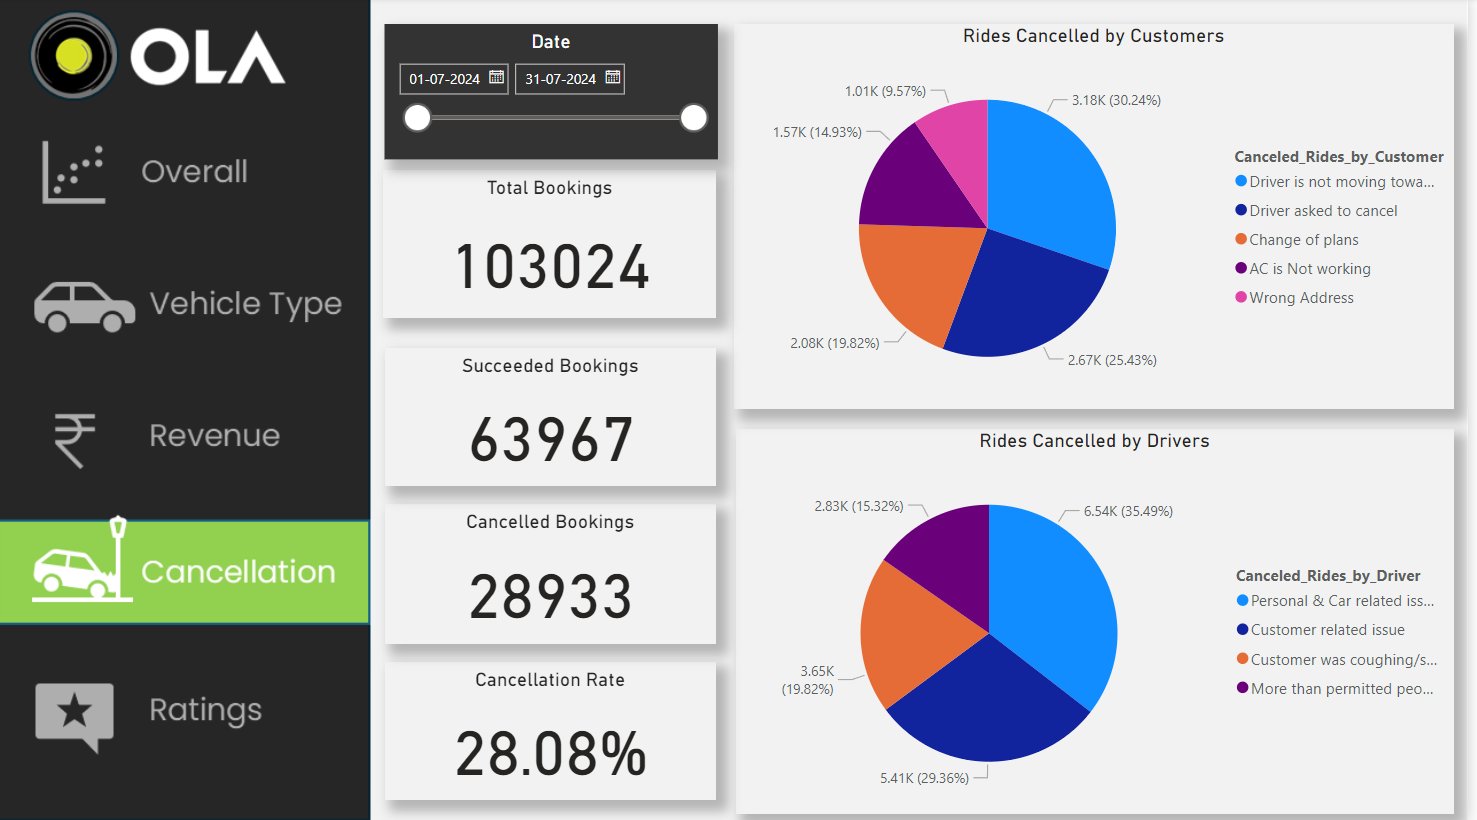

What the dashboard file says about the page in this screenshot:
{"tool":"powerbi","page":{"name":"Cancellation","canvas":[1280,720],"ordinal":3},"visuals":[{"type":"actionButton","box":[0,228.7,320.7,87.7],"z":0},{"type":"actionButton","box":[0,339.4,320.7,87.7],"z":1000},{"type":"actionButton","box":[0,457.3,320.7,87.7],"z":2000},{"type":"actionButton","box":[0,579.6,320.7,87.7],"z":3000},{"type":"actionButton","box":[0,106.4,320.7,87.7],"z":4000},{"type":"pieChart","title":"Rides Cancelled by Customers","fields":{"Category":["July.Canceled_Rides_by_Customer"],"Y":["CountNonNull(July.Canceled_Rides_by_Customer)"]},"box":[640.6,23.4,627.2,336.2],"z":4001},{"type":"pieChart","title":"Rides Cancelled by Drivers","fields":{"Category":["July.Canceled_Rides_by_Driver"],"Y":["CountNonNull(July.Canceled_Rides_by_Driver)"]},"box":[642,376.6,626.3,336],"z":4002},{"type":"slicer","title":"Date","fields":{"Values":["July.Date"]},"box":[336.5,23,290.5,117.9],"z":4003},{"type":"card","title":"Total Bookings","fields":{"Values":["Count(July.Booking_ID)"]},"box":[335.1,151,290.5,129.4],"z":4004},{"type":"card","title":"Succeeded Bookings","fields":{"Values":["Count(July.Booking_ID)"]},"box":[336.5,306.3,289.1,120.8],"z":4005},{"type":"card","title":"Cancelled Bookings","fields":{"Values":["Count(July.Booking_ID)"]},"box":[336.5,441.5,289.1,122.2],"z":4006},{"type":"card","title":"Cancellation Rate","fields":{"Values":["July.CanceledPercentage"]},"box":[336.5,579.6,289.1,120.8],"z":4007}]}

Visuals, with their boxes in screenshot pixels (x1, y1, x2, y2), scaled from the page's 1280x720 canvas onto the 1477x820 screenshot:
actionButton: l=0, t=260, r=370, b=360
actionButton: l=0, t=387, r=370, b=486
actionButton: l=0, t=521, r=370, b=621
actionButton: l=0, t=660, r=370, b=760
actionButton: l=0, t=121, r=370, b=221
"Rides Cancelled by Customers" pieChart: l=739, t=27, r=1463, b=410
"Rides Cancelled by Drivers" pieChart: l=741, t=429, r=1463, b=812
"Date" slicer: l=388, t=26, r=723, b=160
"Total Bookings" card: l=387, t=172, r=722, b=319
"Succeeded Bookings" card: l=388, t=349, r=722, b=486
"Cancelled Bookings" card: l=388, t=503, r=722, b=642
"Cancellation Rate" card: l=388, t=660, r=722, b=798
